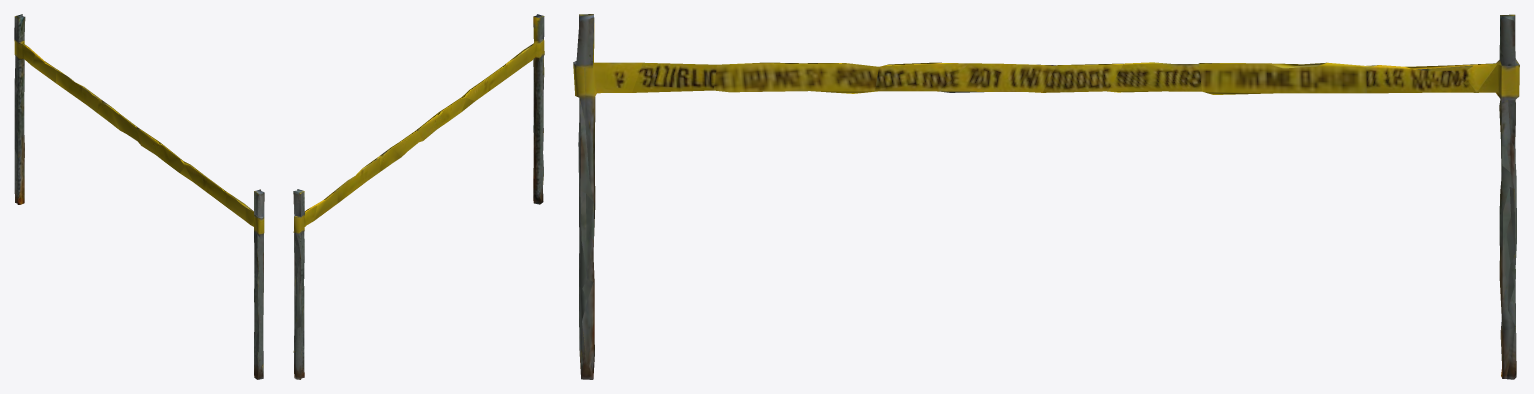
File: police_line_lod2.glb
3 views of the same model, side by side, from view 1: azimuth 30°, elevation 25°; view 2: azimuth 150°, elevation 25°; view 3: azimuth 270°, elevation 25° (orthographic). The views are drawn at different scales.
Parts seen in each view (by area): view 1: tripo_node_ffe1078d; view 2: tripo_node_ffe1078d; view 3: tripo_node_ffe1078d.
Part boxes in pixels (x1,y1,x2,y2): tripo_node_ffe1078d: [14, 14, 264, 379]; tripo_node_ffe1078d: [293, 14, 544, 379]; tripo_node_ffe1078d: [573, 14, 1519, 379].
Bounding box in the file's own units: 1.92 × 41.94 × 99.88.
1 material, 1 textured.
